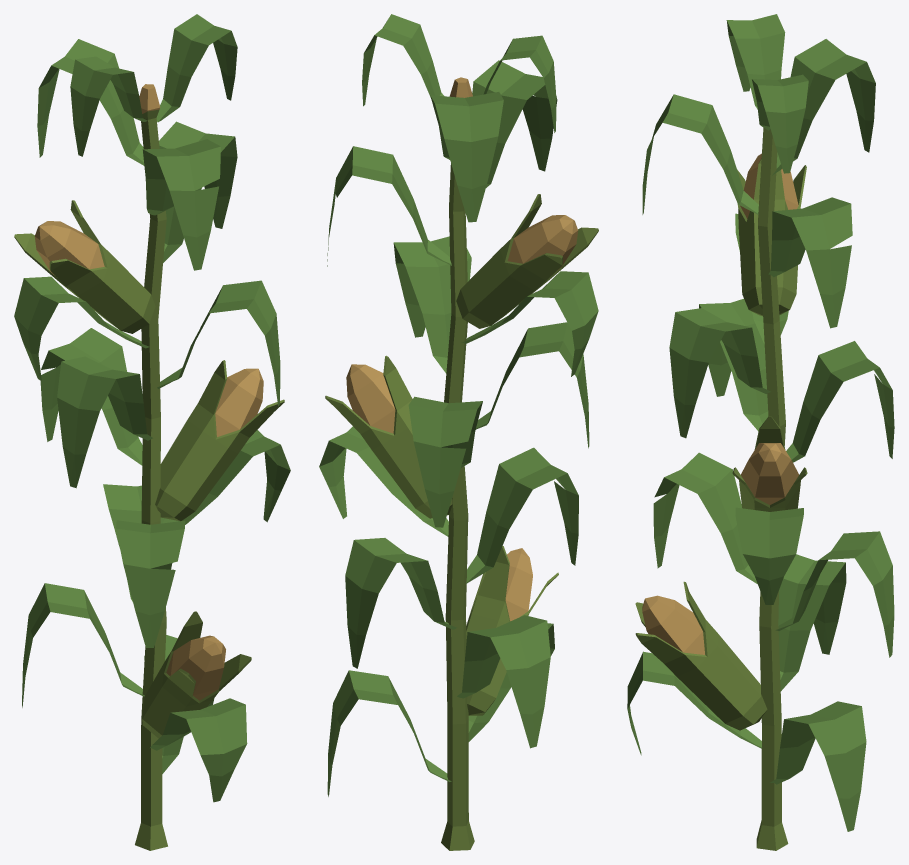
The model's file is SM_Envr_Nature_Farm_Plant_Corn_Large.fbx.
The picture shows the model from 3 angles, left to right: view 1: azimuth 30°, elevation 25°; view 2: azimuth 150°, elevation 25°; view 3: azimuth 270°, elevation 25°; orthographic projection.
Visible parts, largest first — view 1: SM_Envr_Nature_Farm_Plant_Corn_Large; view 2: SM_Envr_Nature_Farm_Plant_Corn_Large; view 3: SM_Envr_Nature_Farm_Plant_Corn_Large.
Boxes of the visible parts, <box> form: SM_Envr_Nature_Farm_Plant_Corn_Large: <box>14,14,290,850</box>; SM_Envr_Nature_Farm_Plant_Corn_Large: <box>319,14,598,850</box>; SM_Envr_Nature_Farm_Plant_Corn_Large: <box>627,14,894,850</box>.
Size of the model in its own units: 72.23 by 221 by 67.22.
